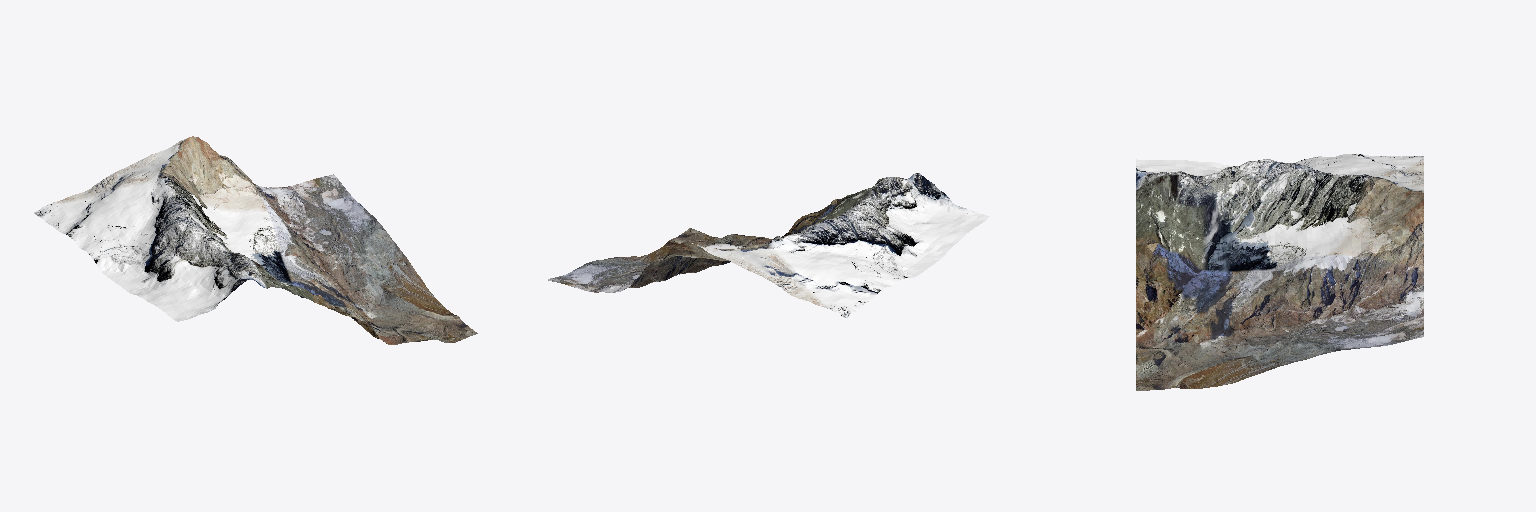
3 views of the same model, side by side, from view 1: azimuth 30°, elevation 25°; view 2: azimuth 150°, elevation 25°; view 3: azimuth 270°, elevation 25° (orthographic).
Visible parts, largest first — view 1: EXPORT_GOOGLE_SAT_WM.001; view 2: EXPORT_GOOGLE_SAT_WM.001; view 3: EXPORT_GOOGLE_SAT_WM.001.
Part boxes in pixels (x1,y1,x2,y2): EXPORT_GOOGLE_SAT_WM.001: (34, 136, 477, 344); EXPORT_GOOGLE_SAT_WM.001: (548, 173, 989, 317); EXPORT_GOOGLE_SAT_WM.001: (1136, 154, 1423, 390).
Size of the model in its own units: 4562 by 1884 by 3802.
Materials: 1 (1 with a texture image).